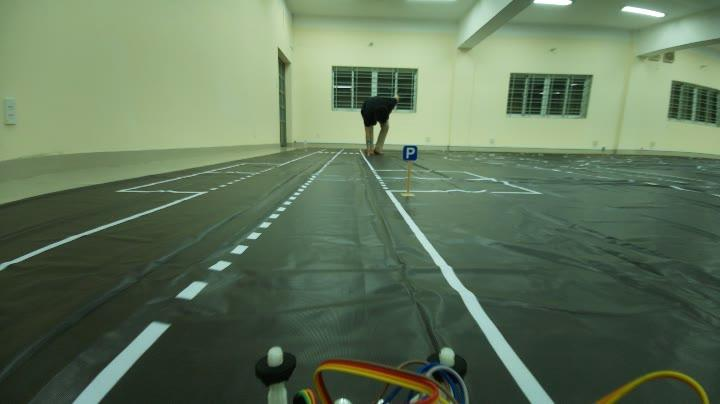parking: (397, 136, 422, 168)
